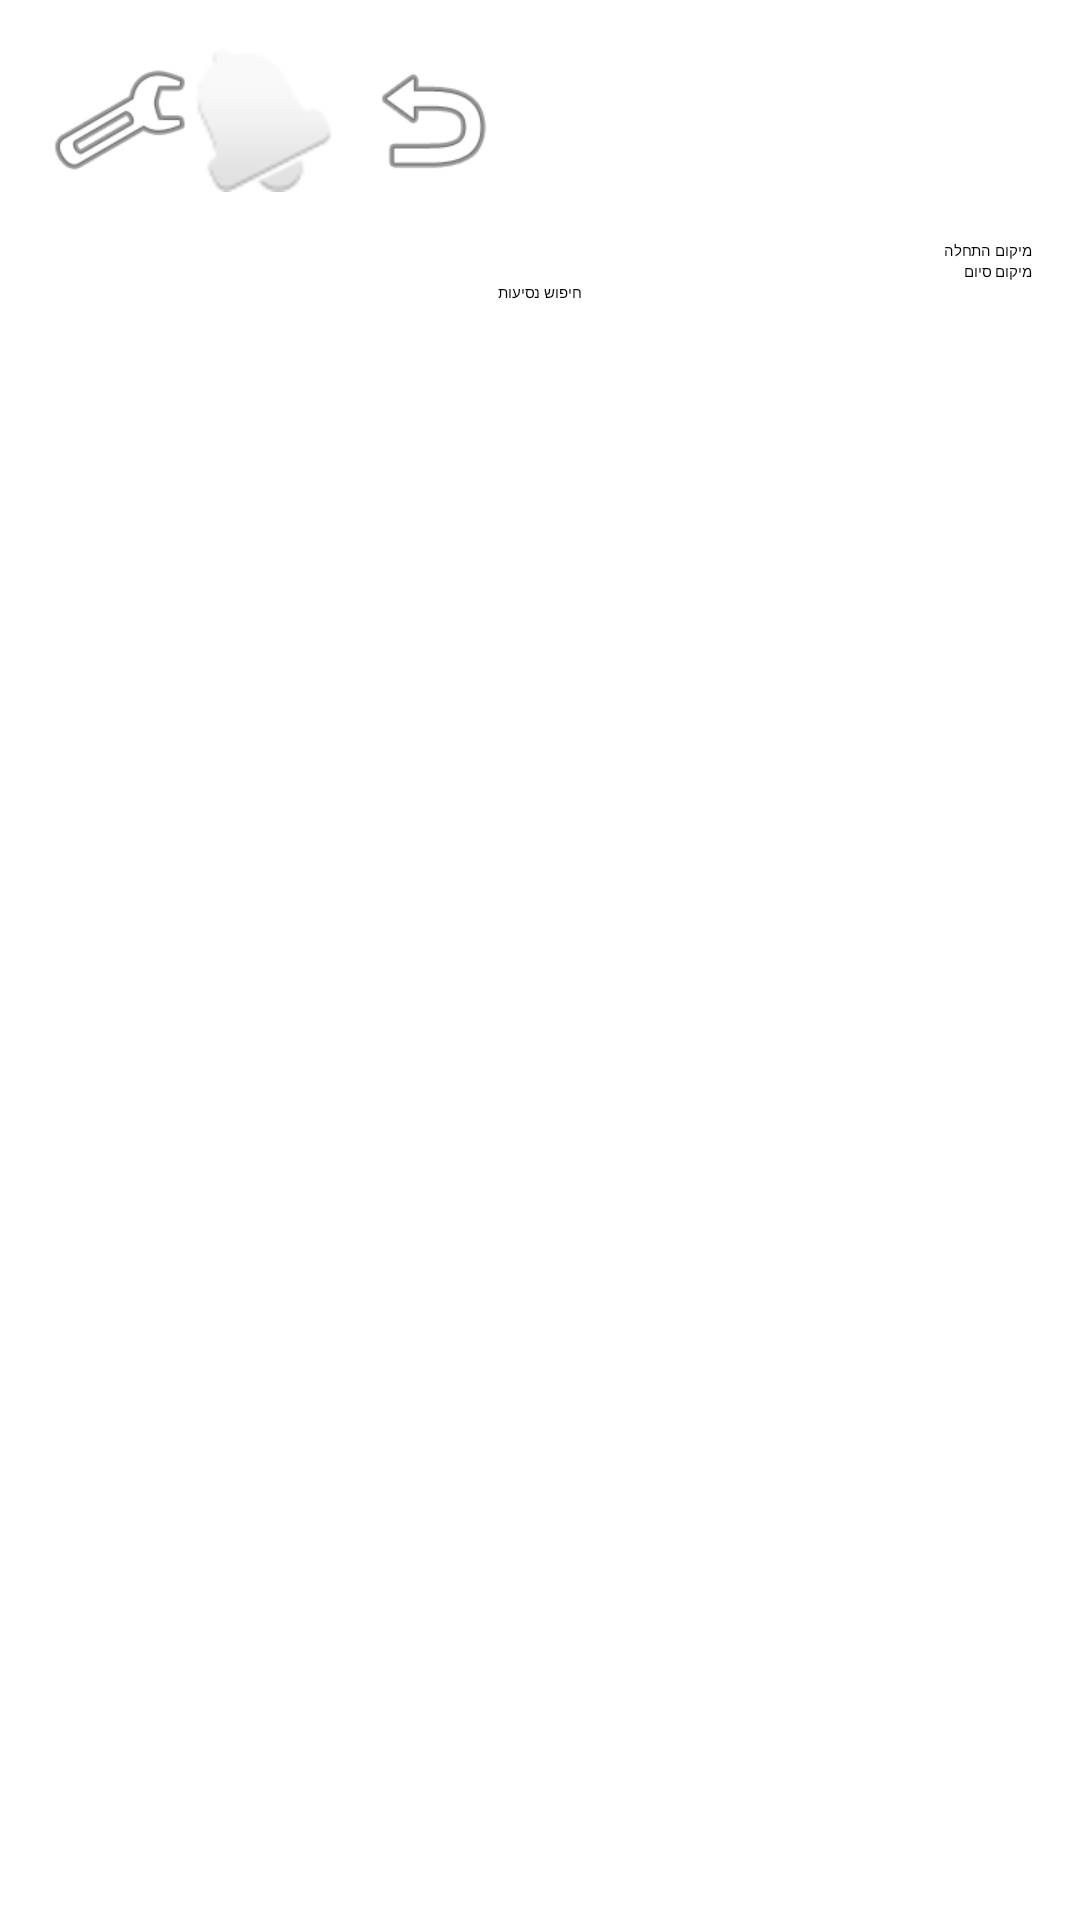

Where to tap for icons on this 1080px×1920px app screen, as (x,y):
הגדרות: (120,120)
חזור: (434,121)
